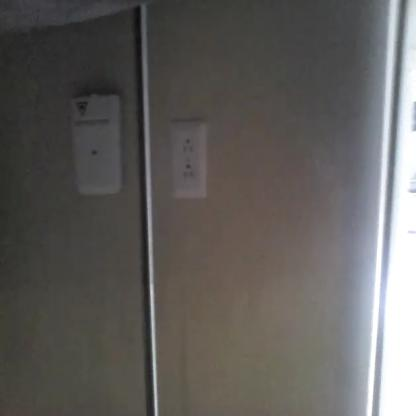OUTLET: (171, 119, 208, 200)
